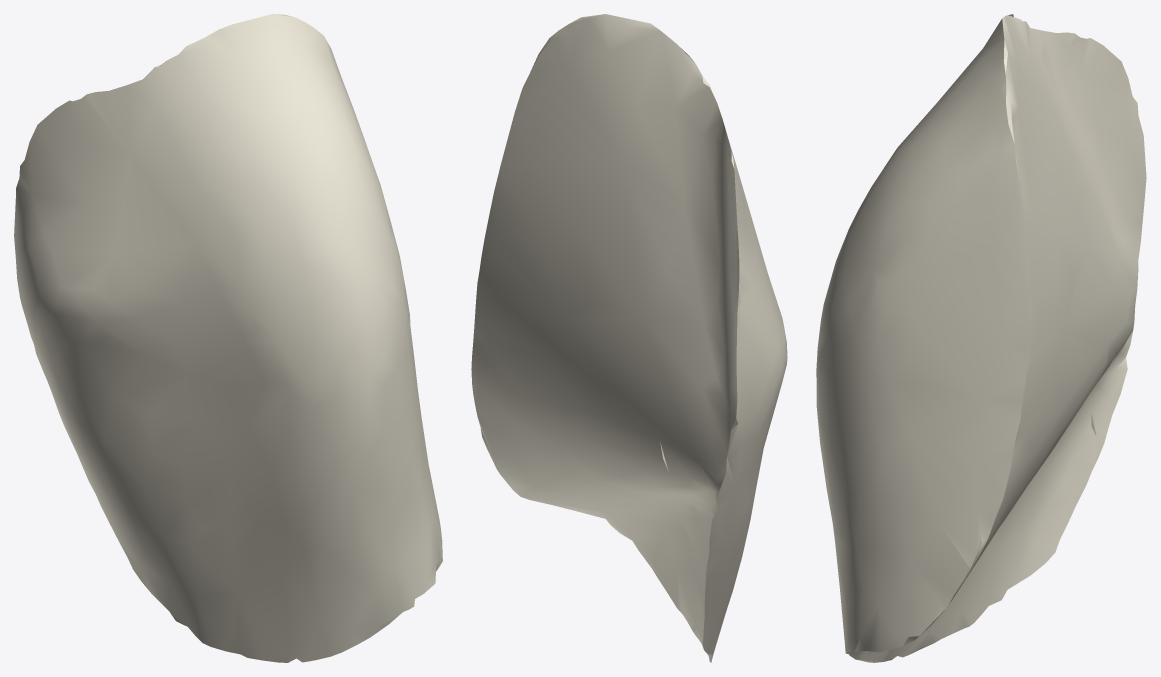
The model's file is fma23491_mm1895m.glb.
3 renders of one model, left to right at view 1: azimuth 30°, elevation 25°; view 2: azimuth 150°, elevation 25°; view 3: azimuth 270°, elevation 25°, orthographic. The views are drawn at different scales.
Parts seen in each view (by area): view 1: FMA23491_MM1895M; view 2: FMA23491_MM1895M; view 3: FMA23491_MM1895M.
Boxes of the visible parts, x1,y1,x2,y2 form: FMA23491_MM1895M: (14,14,442,662); FMA23491_MM1895M: (471,14,787,662); FMA23491_MM1895M: (816,14,1146,662).
Size of the model in its own units: 0.018 by 0.0315 by 0.0148.
